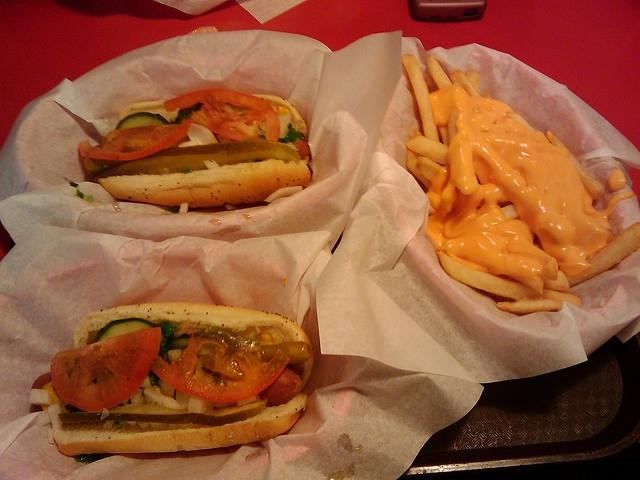cucumber: (94, 317, 168, 350), (116, 112, 170, 130), (174, 103, 202, 124), (168, 334, 190, 350), (167, 347, 183, 364)
tomato: (151, 328, 291, 403), (50, 326, 161, 412), (164, 88, 280, 142), (76, 120, 194, 162)
